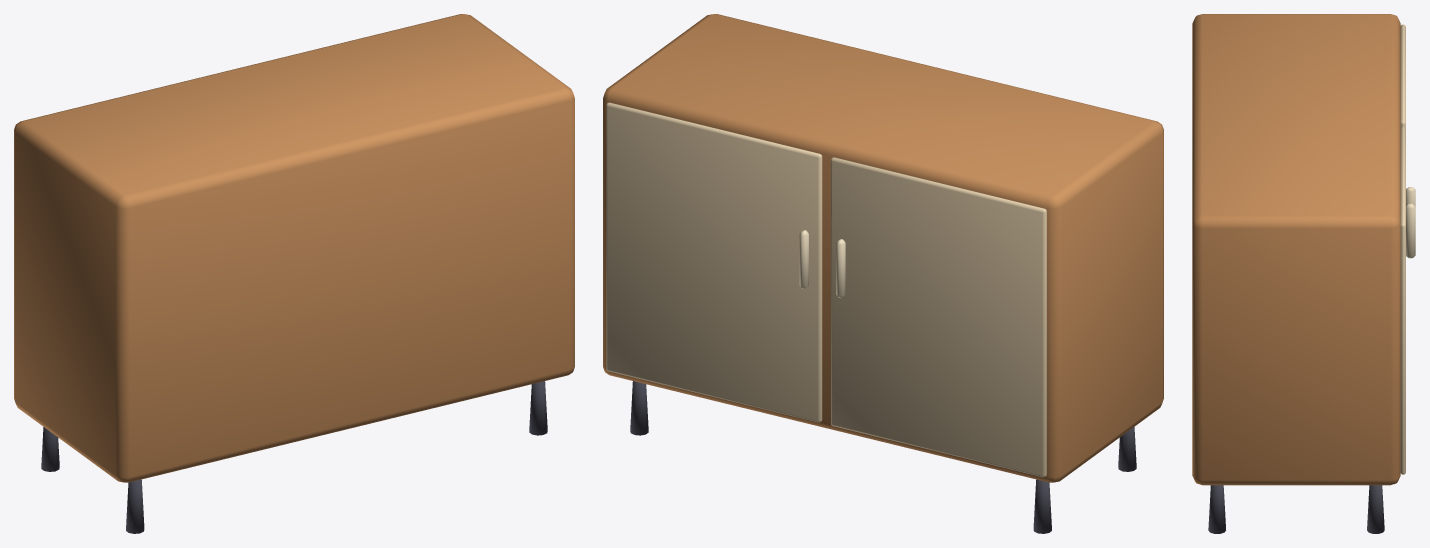
The model's file is senior_sideboard.glb.
The picture shows the model from 3 angles, left to right: view 1: azimuth 30°, elevation 25°; view 2: azimuth 150°, elevation 25°; view 3: azimuth 270°, elevation 25°; orthographic projection. The views are drawn at different scales.
Parts seen in each view (by area): view 1: senior_sideboard__Wood, senior_sideboard__DarkGrey; view 2: senior_sideboard__WoodLight, senior_sideboard__Wood, senior_sideboard__DarkGrey, senior_sideboard__Cream; view 3: senior_sideboard__Wood, senior_sideboard__WoodLight, senior_sideboard__DarkGrey, senior_sideboard__Cream.
Part boxes in pixels (bbox=[...]): senior_sideboard__Wood: bbox=[14, 14, 574, 482]; senior_sideboard__DarkGrey: bbox=[41, 381, 547, 533]; senior_sideboard__WoodLight: bbox=[606, 102, 1046, 477]; senior_sideboard__Wood: bbox=[603, 14, 1163, 482]; senior_sideboard__DarkGrey: bbox=[630, 381, 1136, 533]; senior_sideboard__Cream: bbox=[799, 230, 845, 298]; senior_sideboard__Wood: bbox=[1192, 14, 1400, 485]; senior_sideboard__WoodLight: bbox=[1400, 24, 1405, 474]; senior_sideboard__DarkGrey: bbox=[1208, 485, 1384, 533]; senior_sideboard__Cream: bbox=[1406, 187, 1415, 258].
Size of the model in its own units: 1 by 0.72 by 0.45.
